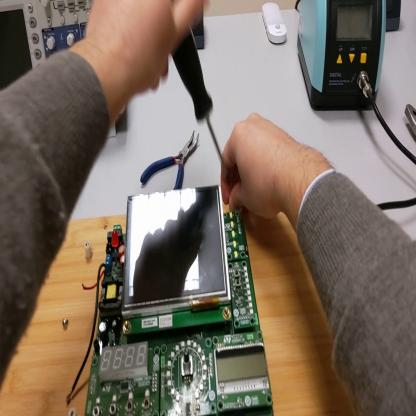hand: (85, 3, 208, 106), (220, 114, 303, 226)
low voltage board: (64, 186, 276, 411)
oscilloscope: (2, 1, 127, 140)
pliers: (140, 128, 200, 197), (404, 99, 416, 146)
screwdriver-: (174, 1, 231, 192)
socket: (385, 1, 402, 34)
welder station: (297, 2, 388, 112)
working area: (1, 203, 351, 416)
